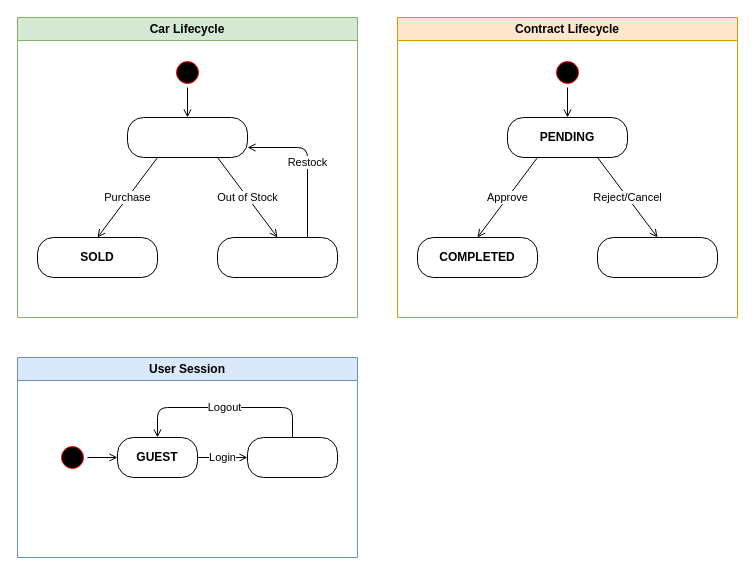
Image size: 755x575. Some labels were removed from this diagram. Here are the shapes that lost their labels. From the top down, the centre of each, then its label:
At pixel 187 137: "AVAILABLE".
At pixel 277 257: "UNAVAILABLE".
At pixel 657 257: "CANCELLED".
At pixel 292 457: "LOGGED_IN".
